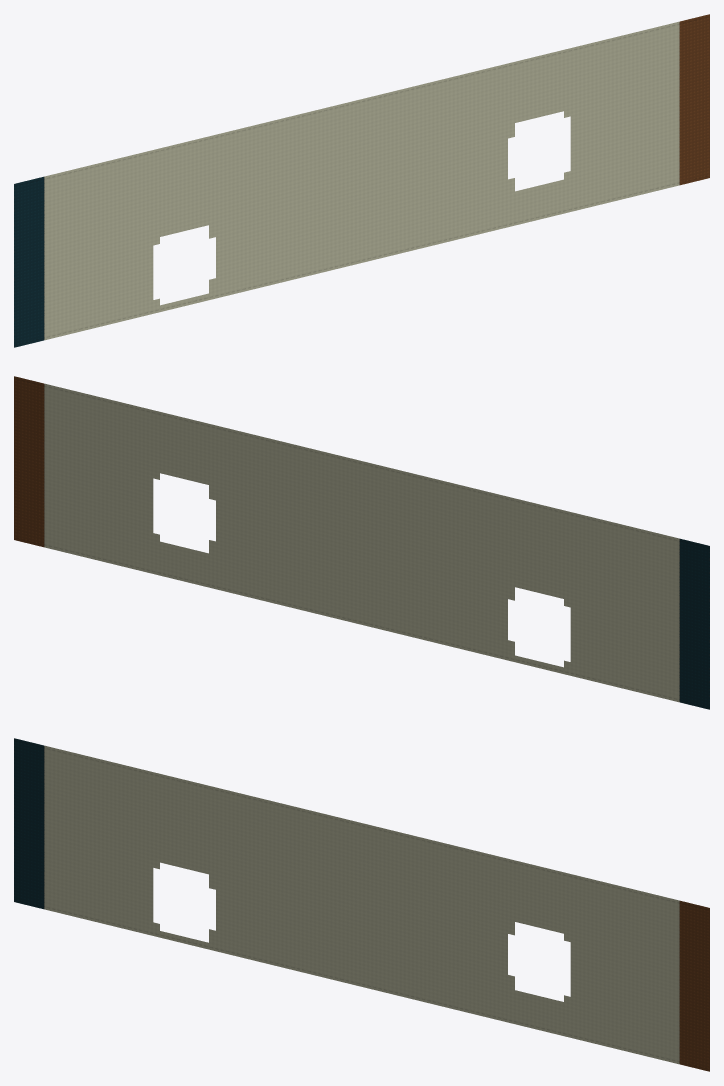
Rendered from garment_sim.obj.
3 renders of one model, top to bottom at view 1: azimuth 30°, elevation 25°; view 2: azimuth 150°, elevation 25°; view 3: azimuth 330°, elevation 25°, orthographic.
Size of the model in its own units: 0.8 by 0.18 by 0.
Materials: 1 (1 with a texture image).
